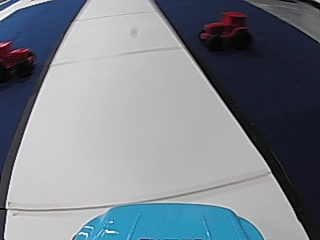tractor: (196, 10, 250, 52), (0, 39, 34, 82)
